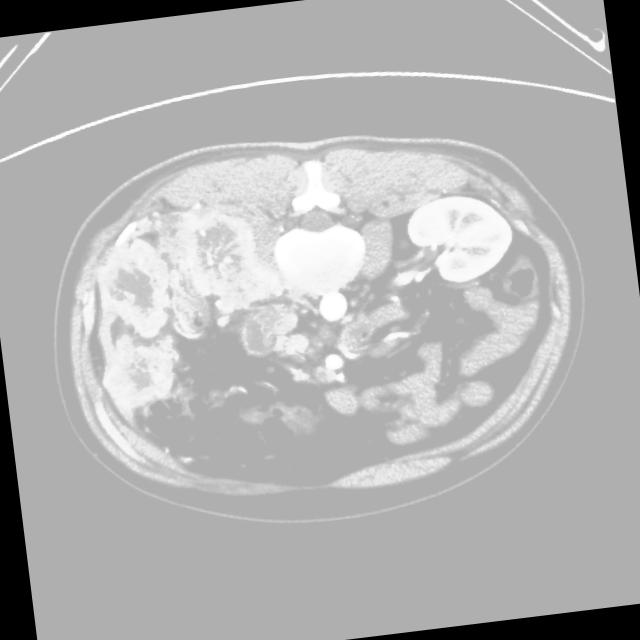TUMOR: (88, 200, 529, 472)
